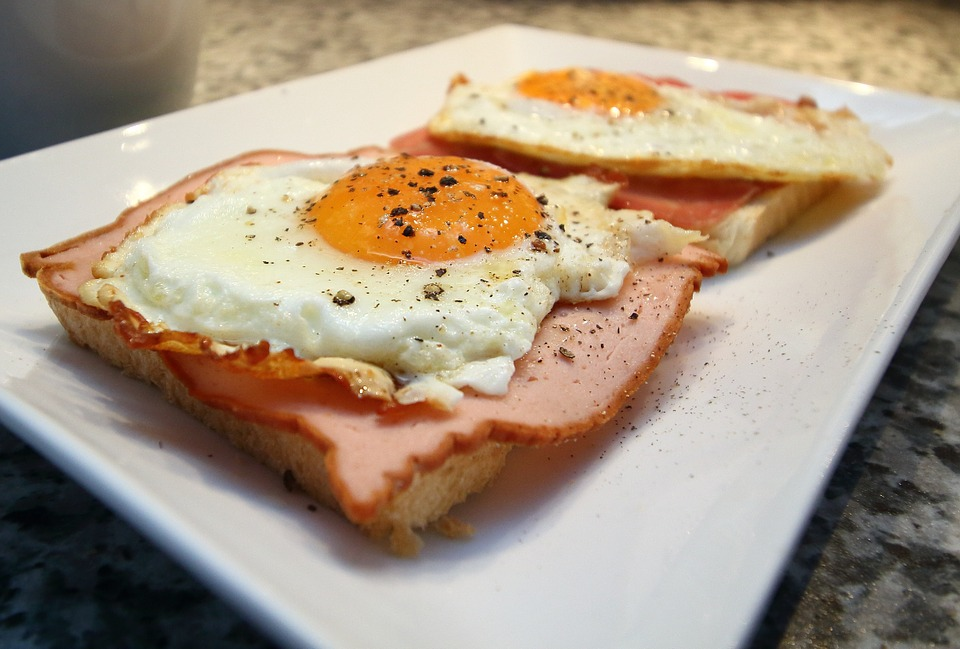fried egg: (196, 163, 567, 346), (474, 68, 879, 190)
